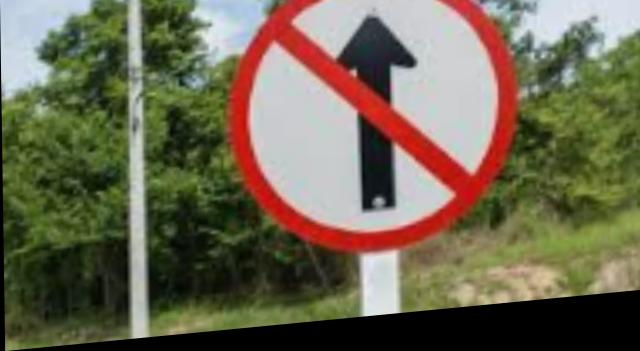not_go_straight: (222, 0, 530, 291)
